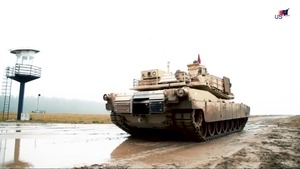abrams: (104, 70, 252, 136)
